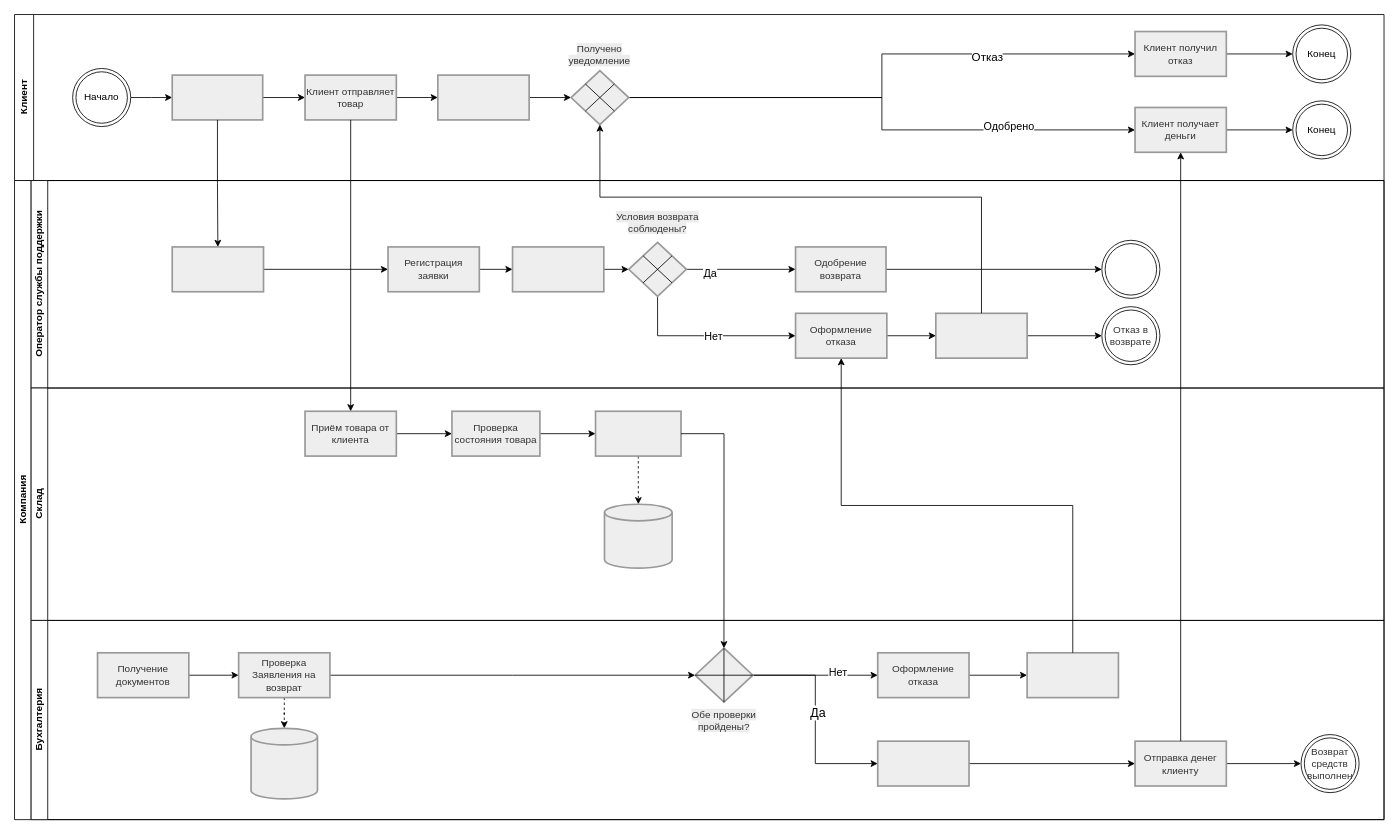
This 1399x834 diagram has some shape labels left out. Here are the shapes that lost their labels. From the top down, the centre of each, then its label:
point 217,97: Клиент подаёт заявку на возврат
point 483,97: Клиент ожидает решения
point 217,269: Заявка на возврат получена
point 557,269: Проверка условий возврата
point 1130,268: Передача заявки на склад и в бухгалтерию
point 981,335: Уведомление клиента об отказе
point 637,433: Составление Акта приёма
point 638,536: Акт приёма
point 1072,675: Передача отказа оператору
point 284,763: Заявление на возврат
point 922,763: Оформление возврата средств
